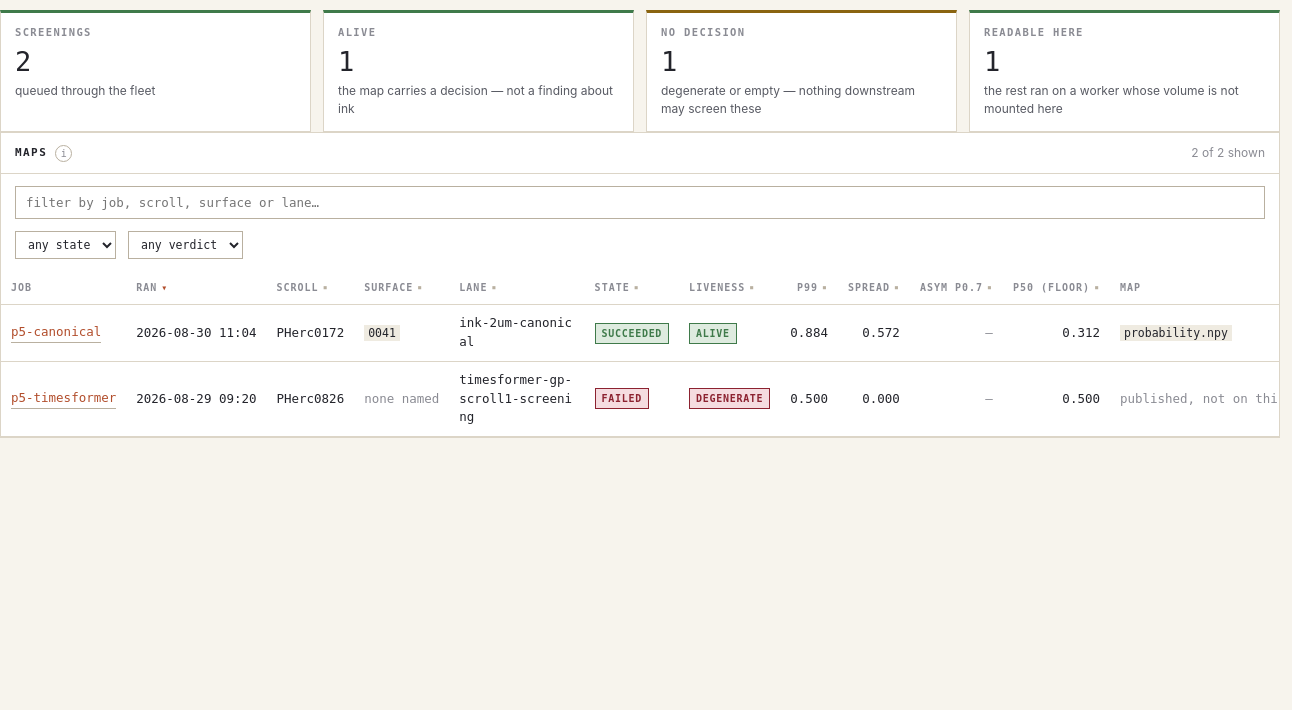
Test: inspecting one run › carries the refusal beside the run that earned it
Click the button "p5-canonical". click: (56, 333)
box: [11,323,101,343]
(page scrolled)
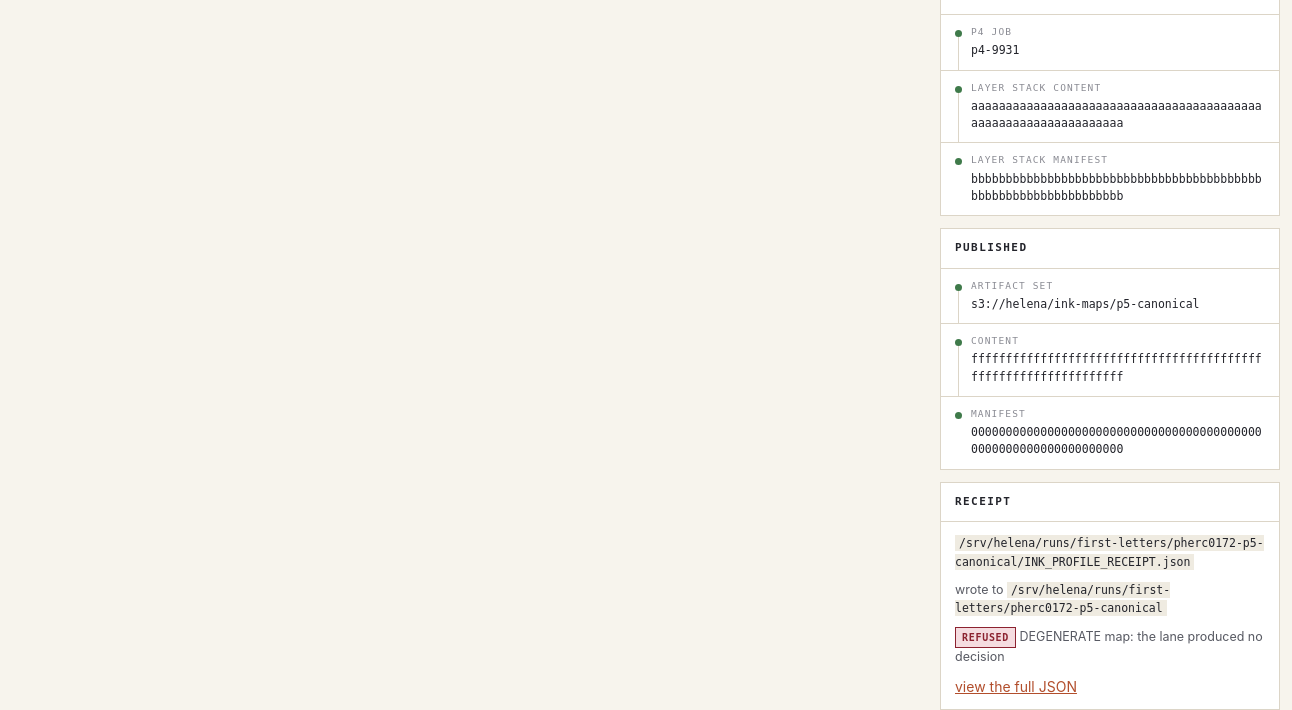
Check: the text "refused DEGENERATE map: the lane produced no decision" is shown, box [955,627,1265,667]
